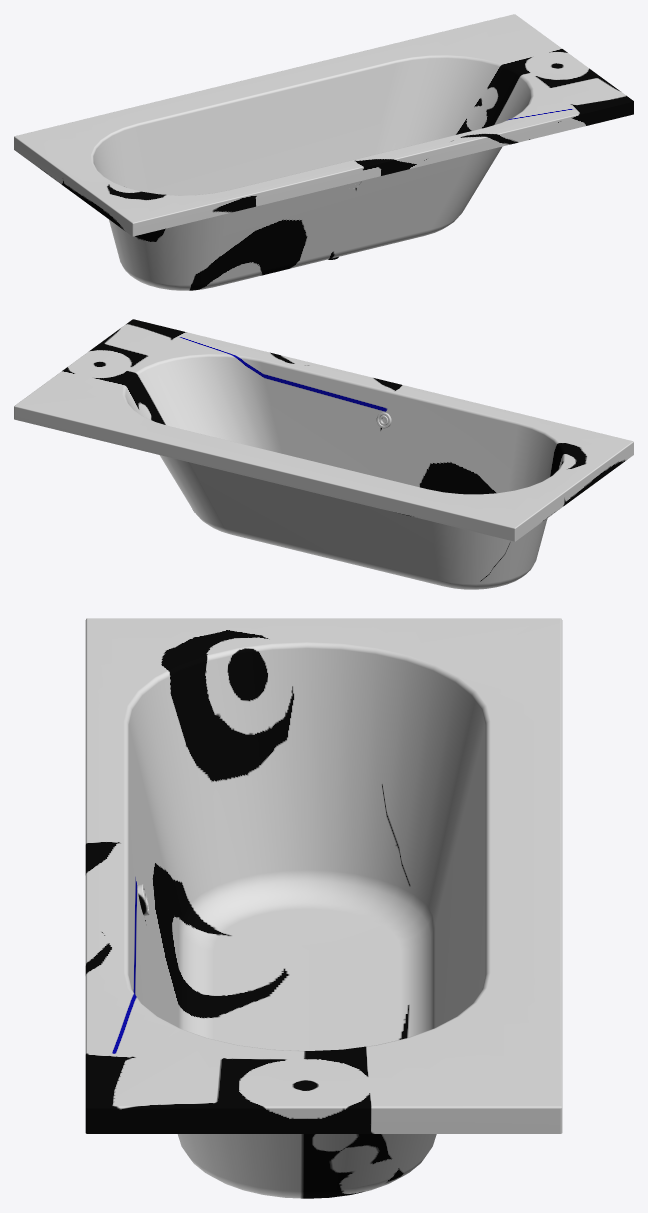
Rendered from bathtub_Roco.fbx.
The picture shows the model from 3 angles, top to bottom: view 1: azimuth 30°, elevation 25°; view 2: azimuth 150°, elevation 25°; view 3: azimuth 270°, elevation 25°; orthographic projection. The views are drawn at different scales.
Parts seen in each view (by area): view 1: geo_bathtub_Roco_LOD0; view 2: geo_bathtub_Roco_LOD0; view 3: geo_bathtub_Roco_LOD0.
Part boxes in pixels (<box>): geo_bathtub_Roco_LOD0: <box>14,14,633,290</box>; geo_bathtub_Roco_LOD0: <box>14,319,633,589</box>; geo_bathtub_Roco_LOD0: <box>85,618,562,1198</box>.
Bounding box in the file's own units: 1.93 × 0.4354 × 0.7945.
